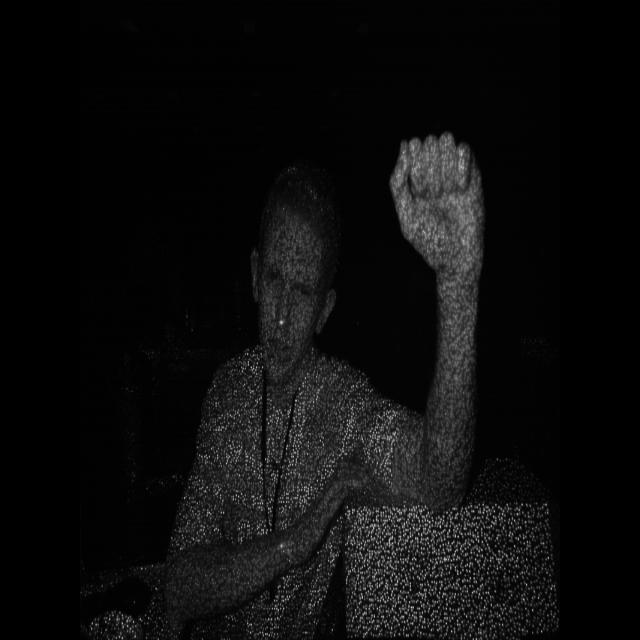A: (378, 109, 540, 318)
